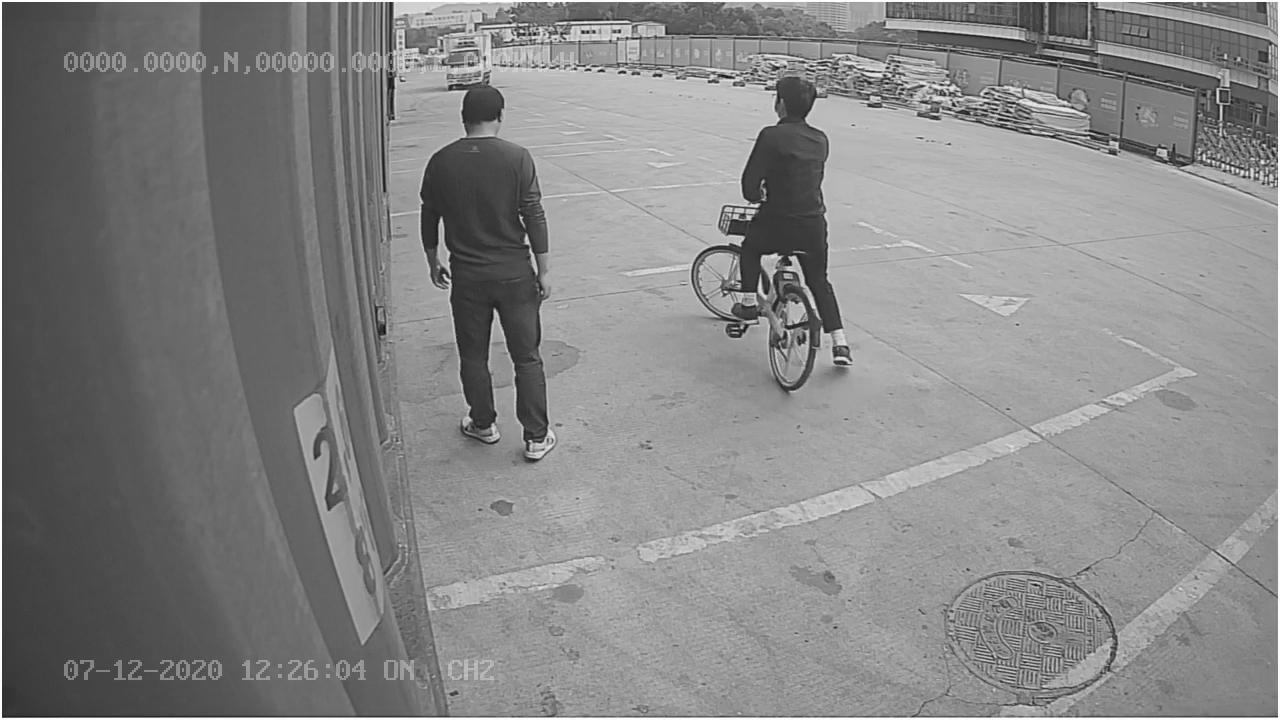person: (411, 80, 561, 465)
